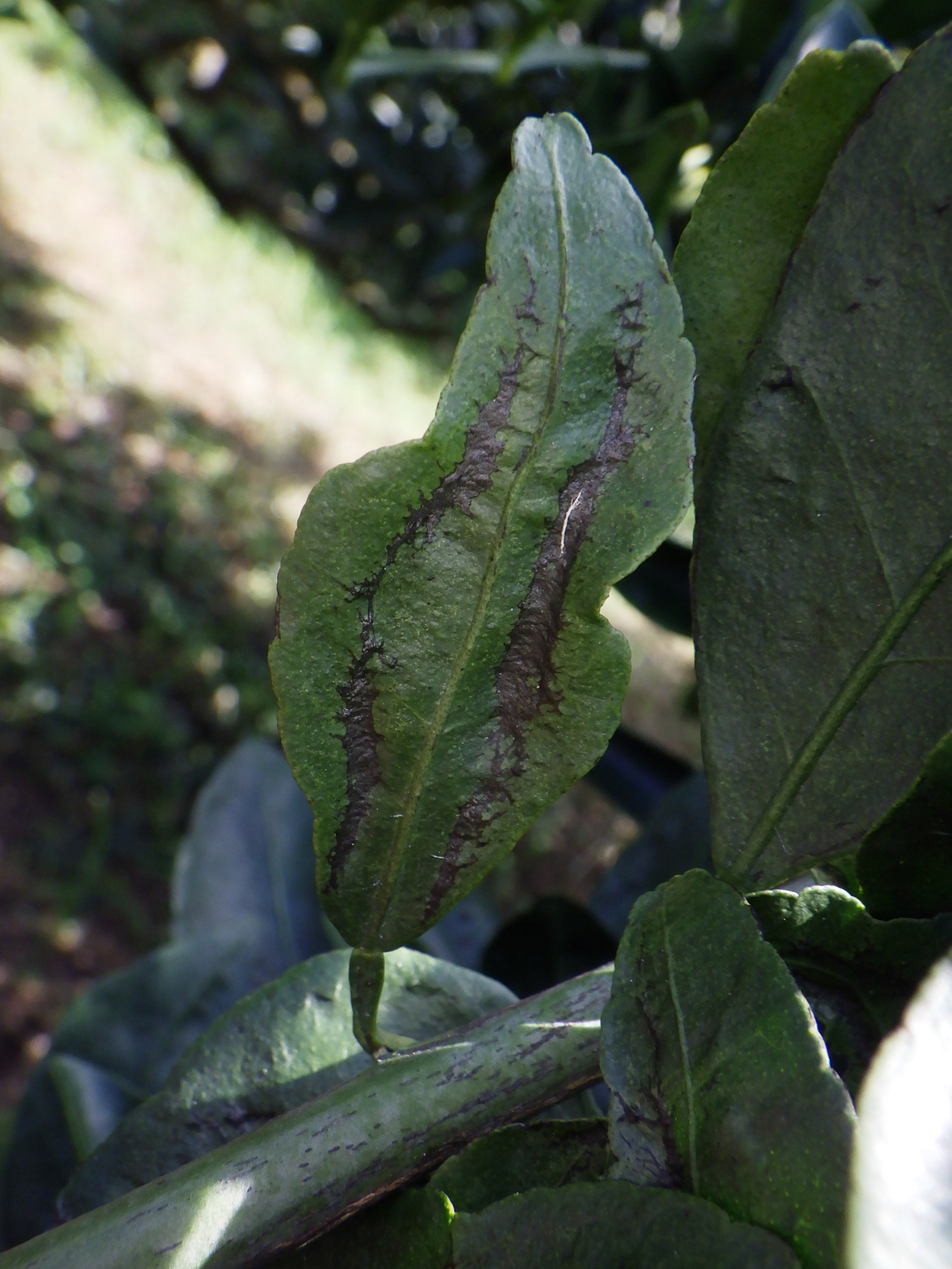Thrips_Damage: (329, 345, 633, 919)
